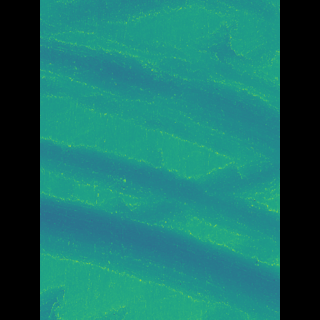Loch: (69, 20, 251, 179), (69, 190, 250, 320), (70, 135, 250, 248)
